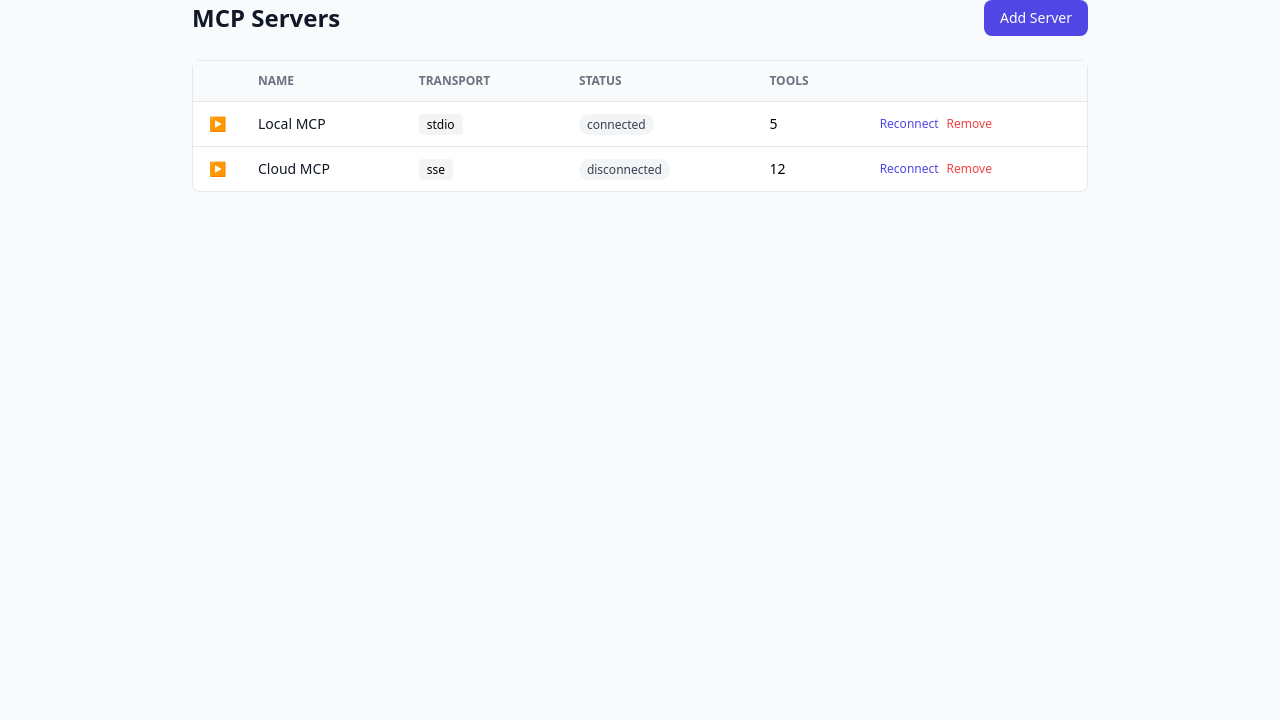
Test case: MCP3: Add HTTP server › shows URL field when streamable_http transport selected
This screenshot has width=1280, height=720.
Click the button "Add Server" at {"x": 1036, "y": 18}, box [984,0,1088,36]
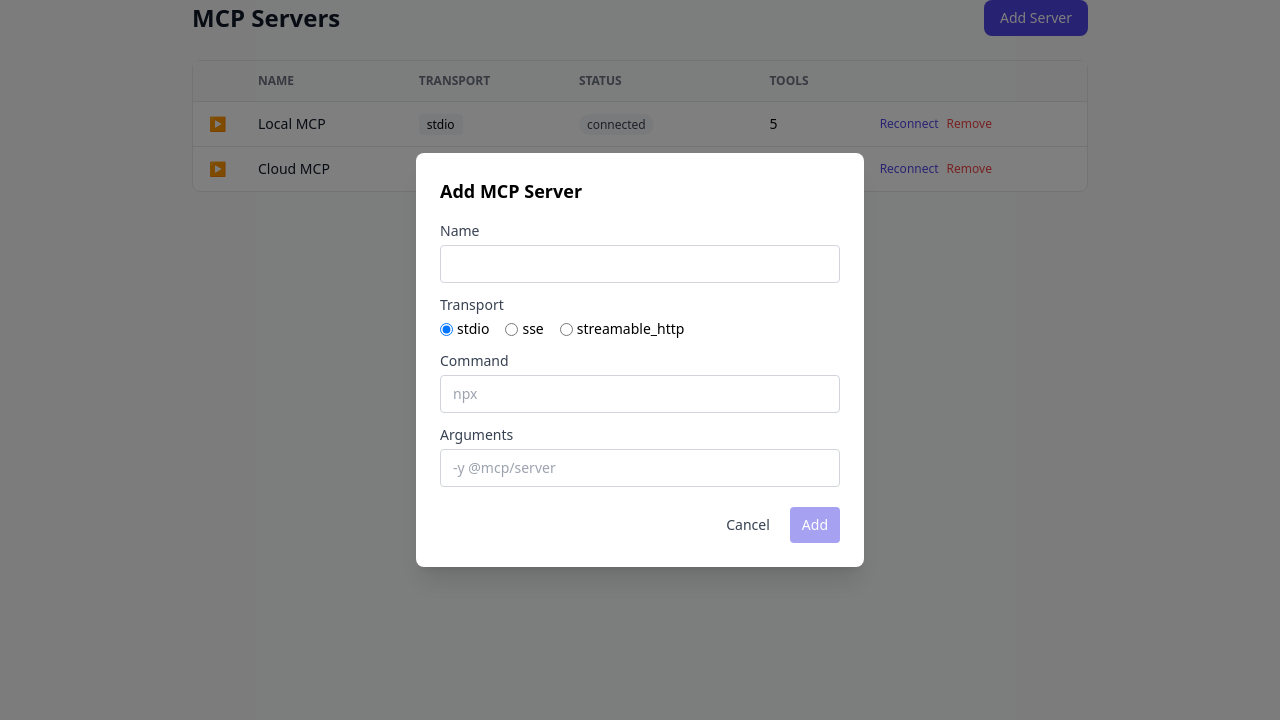
Now the heading "Add MCP Server" is shown, box [440,179,582,203]
Click the radio button labelled "streamable_http" at {"x": 566, "y": 329}, box [560,322,573,336]
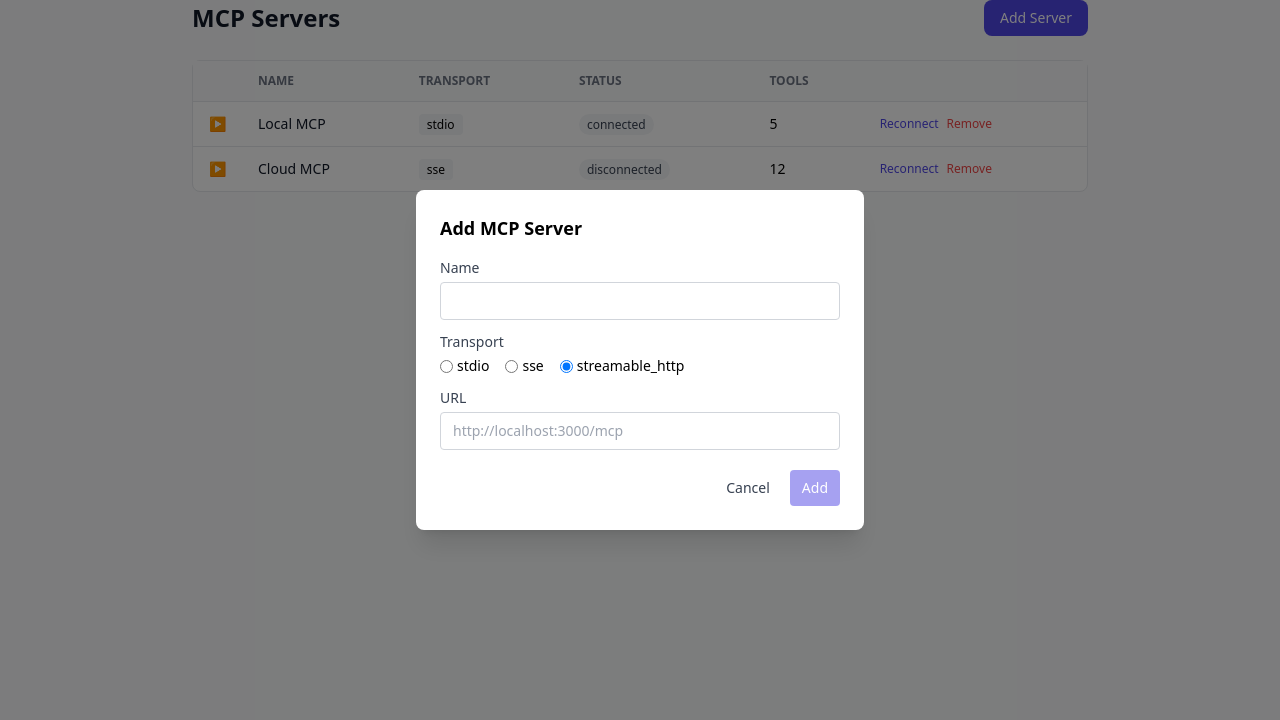
Now the text "URL" is shown, box [440,388,466,407]
